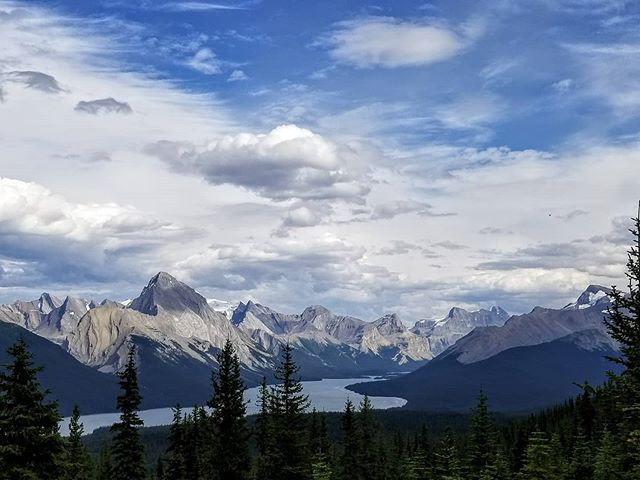mountain: (1, 265, 499, 337), (445, 272, 640, 354)
river: (21, 361, 409, 438)
sky: (8, 1, 640, 270)
vegetation: (8, 364, 640, 480)
